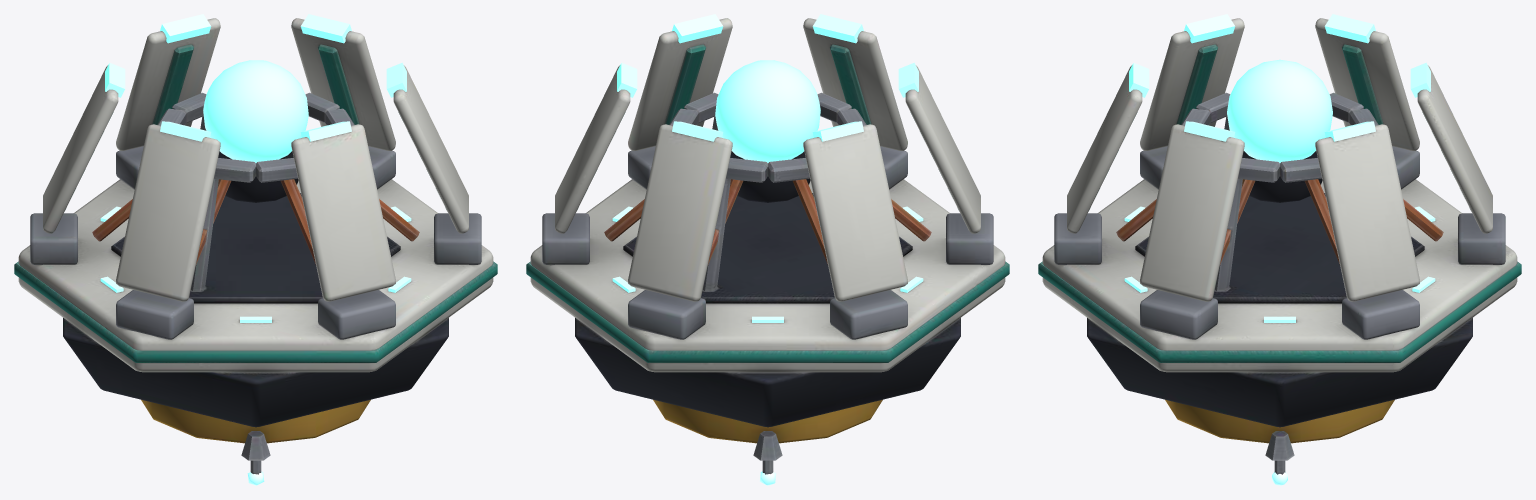
File: collector.glb
3 renders of one model, left to right at view 1: azimuth 30°, elevation 25°; view 2: azimuth 150°, elevation 25°; view 3: azimuth 270°, elevation 25°, orthographic.
Parts seen in each view (by area): view 1: collector, collector_glow; view 2: collector, collector_glow; view 3: collector, collector_glow.
Part boxes in pixels (x1,y1,x2,y2): collector: [14, 18, 497, 474]; collector_glow: [100, 14, 411, 485]; collector: [526, 18, 1009, 474]; collector_glow: [612, 14, 923, 485]; collector: [1038, 18, 1521, 474]; collector_glow: [1124, 14, 1435, 485].
Bounding box in the file's own units: 3.34 × 3.5 × 3.64.
3 materials, 1 textured.
